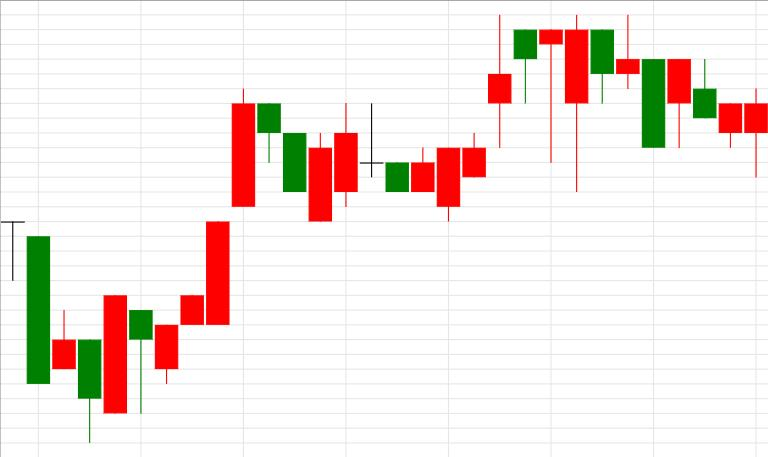hanging_man_fall: (386, 13, 536, 221)
